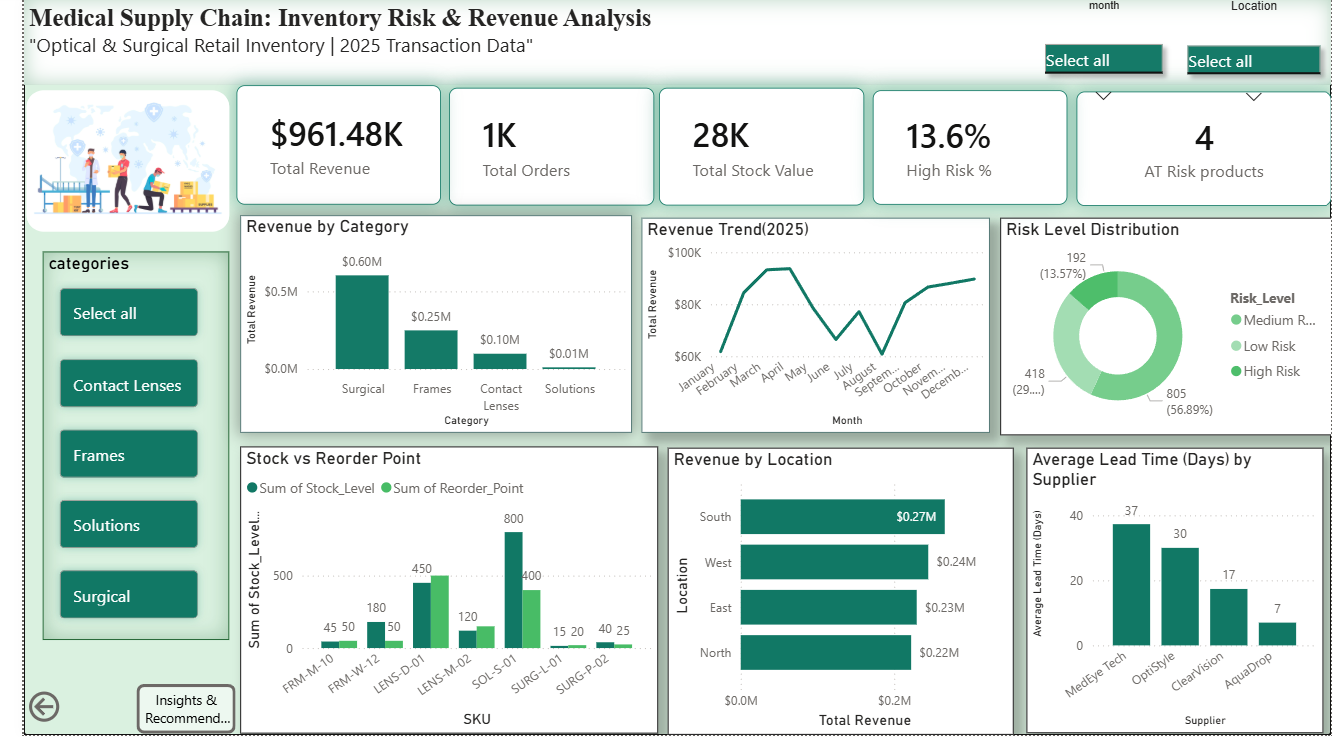

This screenshot's page, from the dashboard's own definition file:
{"tool":"powerbi","page":{"name":"Risk &Revenue","canvas":[1280,720],"ordinal":1},"visuals":[{"type":"textbox","box":[0,0,1280.5,74],"z":0},{"type":"cardVisual","fields":{"Data":["calculated methods.Total orders"]},"box":[415.9,87.1,200.4,115.2],"z":1000},{"type":"cardVisual","fields":{"Data":["calculated methods.Total_revenue"]},"box":[207.6,84.9,200.3,116.4],"z":2000},{"type":"cardVisual","fields":{"Data":["calculated methods.Total_stock_value"]},"box":[621,87.1,200.4,115.2],"z":3000},{"type":"cardVisual","fields":{"Data":["calculated methods.Products Below Reorder Point"]},"box":[1029.6,90.6,250.8,111.7],"z":4000},{"type":"columnChart","title":" Revenue by Category","fields":{"Category":["Product_Master_List.Category"],"Y":["calculated methods.Total_revenue"]},"box":[211.7,211.7,383.1,212.6],"z":5000},{"type":"lineChart","title":" Revenue Trend(2025)","fields":{"Category":["Inventory_Transactions.Date.Variation.Date Hierarchy.Month"],"Y":["calculated methods.Total_revenue"]},"box":[604.1,213.6,340.9,210.7],"z":6000},{"type":"donutChart","title":" Risk Level Distribution","fields":{"Category":["Inventory_Transactions.Risk_Level"],"Y":["calculated methods.Total orders"]},"box":[954.4,213.6,325.9,212.6],"z":7000},{"type":"clusteredColumnChart","title":"Stock vs  Reorder Point ","fields":{"Category":["Product_Master_List.SKU"],"Y":["Sum(Product_Master_List.Stock_Level)","Sum(Product_Master_List.Reorder_Point)"]},"box":[212,438.3,408.6,281.1],"z":8000},{"type":"clusteredBarChart","title":"Revenue by Location","fields":{"Category":["Inventory_Transactions.Location"],"Y":["calculated methods.Total_revenue"]},"box":[630.1,438.4,338.1,280.7],"z":9000},{"type":"cardVisual","fields":{"Data":["calculated methods.High Risk %"]},"box":[830.2,89.3,190.6,112],"z":10000},{"type":"advancedSlicerVisual","title":"categories","fields":{"Values":["Product_Master_List.Category"]},"box":[0,90.6,182.1,379.8],"z":11000},{"type":"columnChart","fields":{"Category":["Product_Master_List.Supplier"],"Y":["calculated methods.Average Lead Time (Days)"]},"box":[980.6,439.6,290.8,279.5],"z":12000},{"type":"advancedSlicerVisual","title":"month","fields":{"Values":["Inventory_Transactions.Date.Variation.Date Hierarchy.Month"]},"box":[986.2,0,139.8,105.9],"z":13000},{"type":"advancedSlicerVisual","fields":{"Values":["Inventory_Transactions.Location"]},"box":[1126,0,154.4,105.9],"z":14000},{"type":"actionButton","box":[110.7,670.7,97.1,48.6],"z":15000},{"type":"actionButton","box":[0,672.9,57.5,39.4],"z":16000}]}

Visuals, with their boxes in screenshot pixels (x1, y1, x2, y2), scaled from the page's 1280x720 canvas onto the 1332x737 screenshot:
textbox: 0:0:1331:76
cardVisual - calculated methods.Total orders: 433:89:641:207
cardVisual - calculated methods.Total_revenue: 216:87:424:206
cardVisual - calculated methods.Total_stock_value: 646:89:855:207
cardVisual - calculated methods.Products Below Reorder Point: 1071:93:1331:207
" Revenue by Category" columnChart: 220:217:619:434
" Revenue Trend(2025)" lineChart: 629:219:983:434
" Risk Level Distribution" donutChart: 993:219:1331:436
"Stock vs  Reorder Point " clusteredColumnChart: 221:449:646:736
"Revenue by Location" clusteredBarChart: 656:449:1008:736
cardVisual - calculated methods.High Risk %: 864:91:1062:206
"categories" advancedSlicerVisual: 0:93:189:482
columnChart - Product_Master_List.Supplier x calculated methods.Average Lead Time (Days): 1020:450:1323:736
"month" advancedSlicerVisual: 1026:0:1172:108
advancedSlicerVisual - Inventory_Transactions.Location: 1172:0:1331:108
actionButton: 115:687:216:736
actionButton: 0:689:60:729
